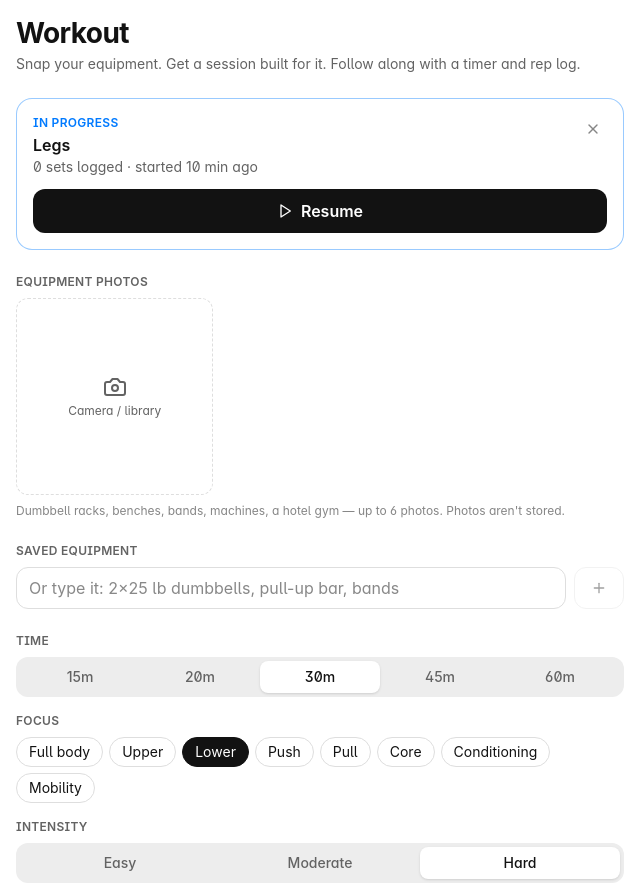
adding time › from the summary reopens the session on the first new set, and shows the failure otherwise
Click the button "Resume". click: (320, 211)
box: [33,189,607,233]
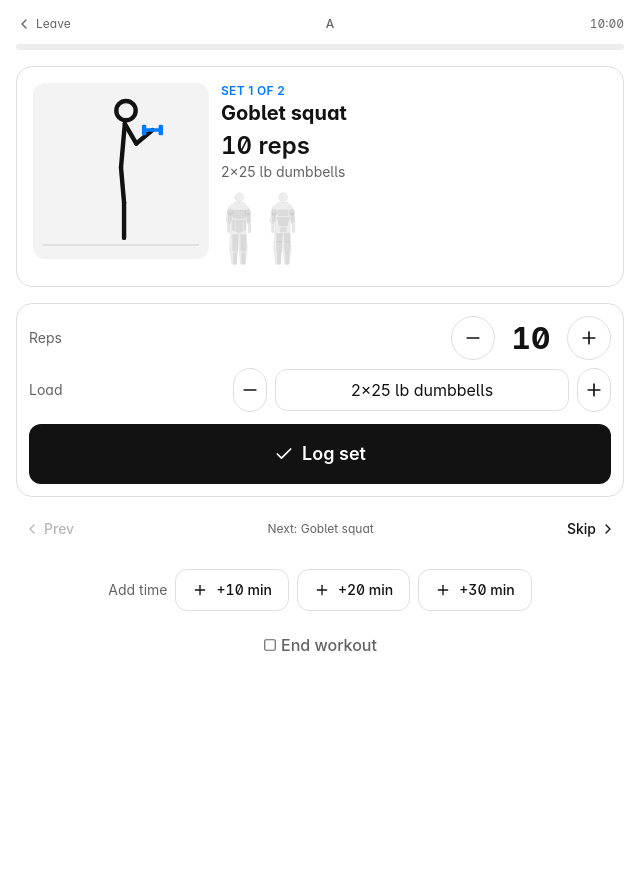
Click the button "End workout". click: (320, 645)
box: [255,627,385,663]
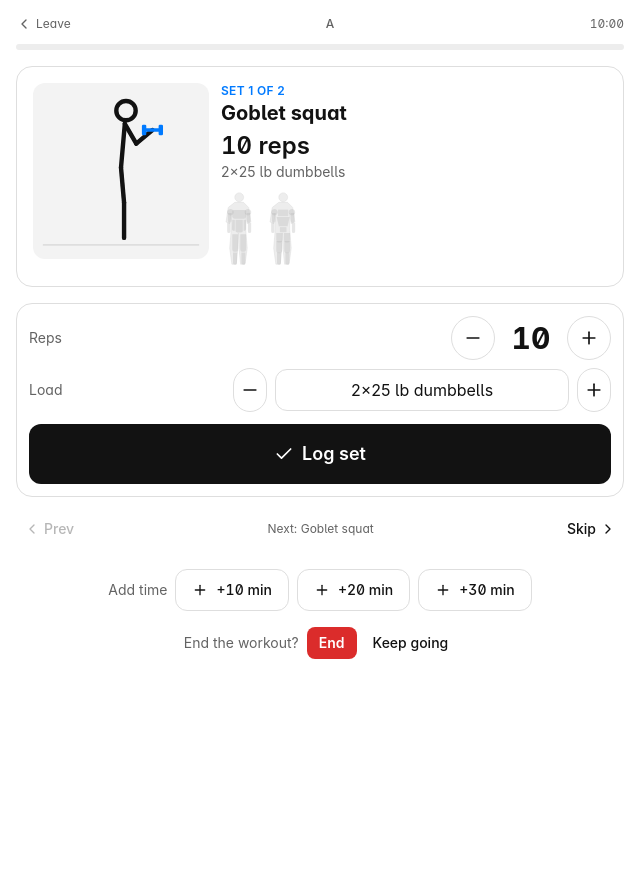
Click the button "End". click: (332, 643)
box: [307,627,357,659]
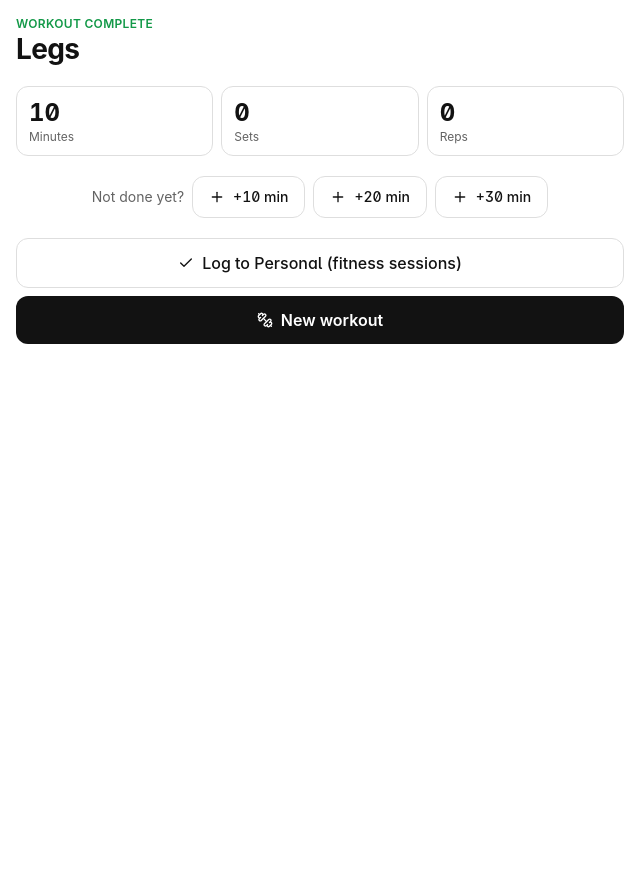
Now the text "Workout complete" is shown, box [16,16,153,31]
Click the button "+10 min". click: (249, 197)
box: [192,176,306,218]
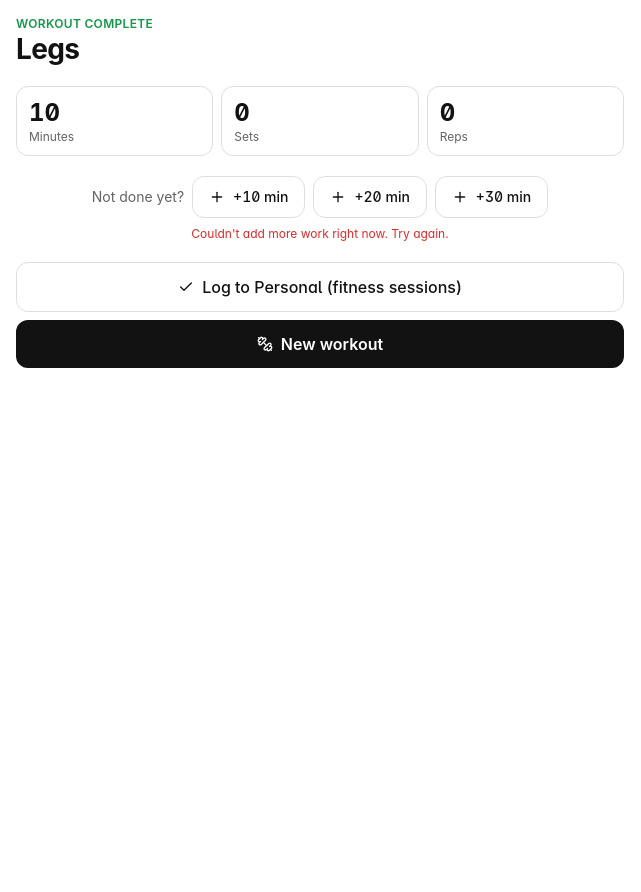
Now the text "Couldn't add more work right now." is shown, box [191,226,449,241]
Click the button "+10 min". click: (249, 197)
box: [192,176,306,218]
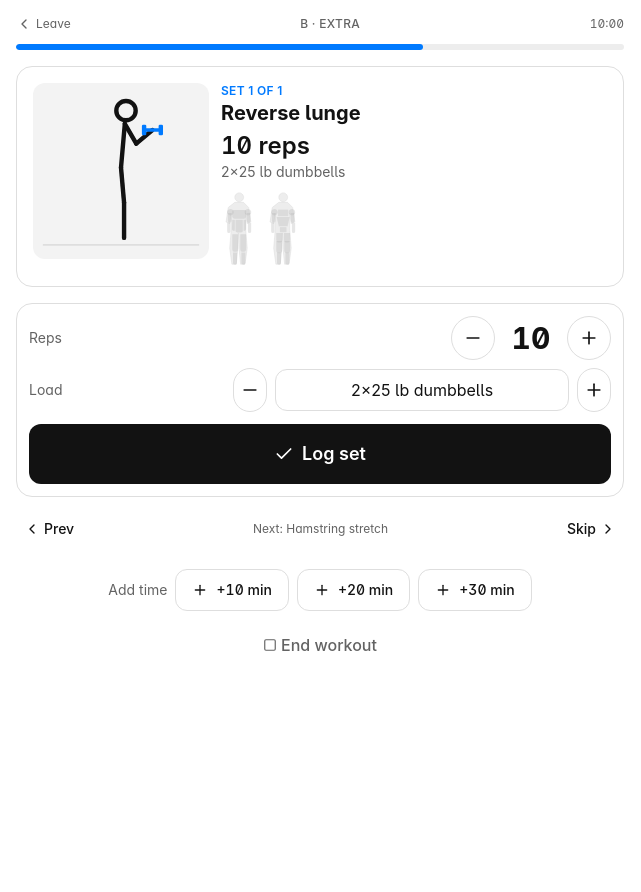
Now the text "Reverse lunge" is shown, box [221,101,361,125]
Now the text "Set 1 of 1" is shown, box [221,83,282,98]
